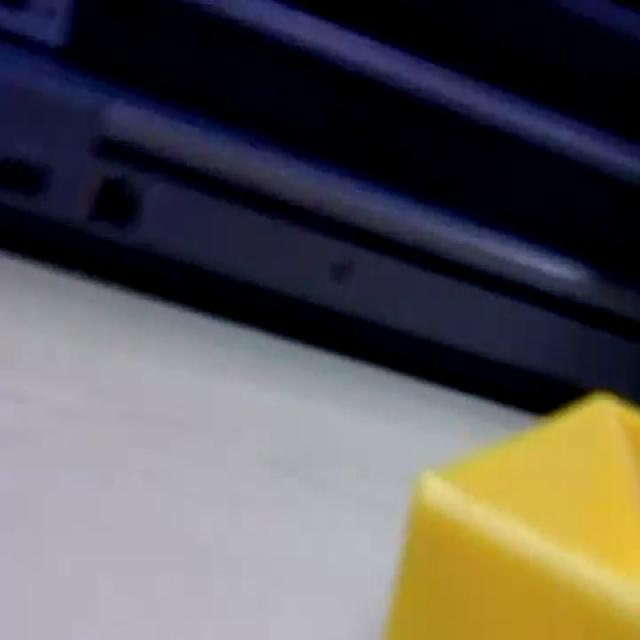yellow_block: (381, 388, 638, 637)
